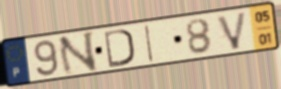8: (184, 17, 213, 56)
9: (31, 38, 61, 78)
D: (102, 27, 136, 69)
I: (144, 23, 156, 64)
N: (56, 29, 100, 78)
V: (215, 9, 250, 52)
